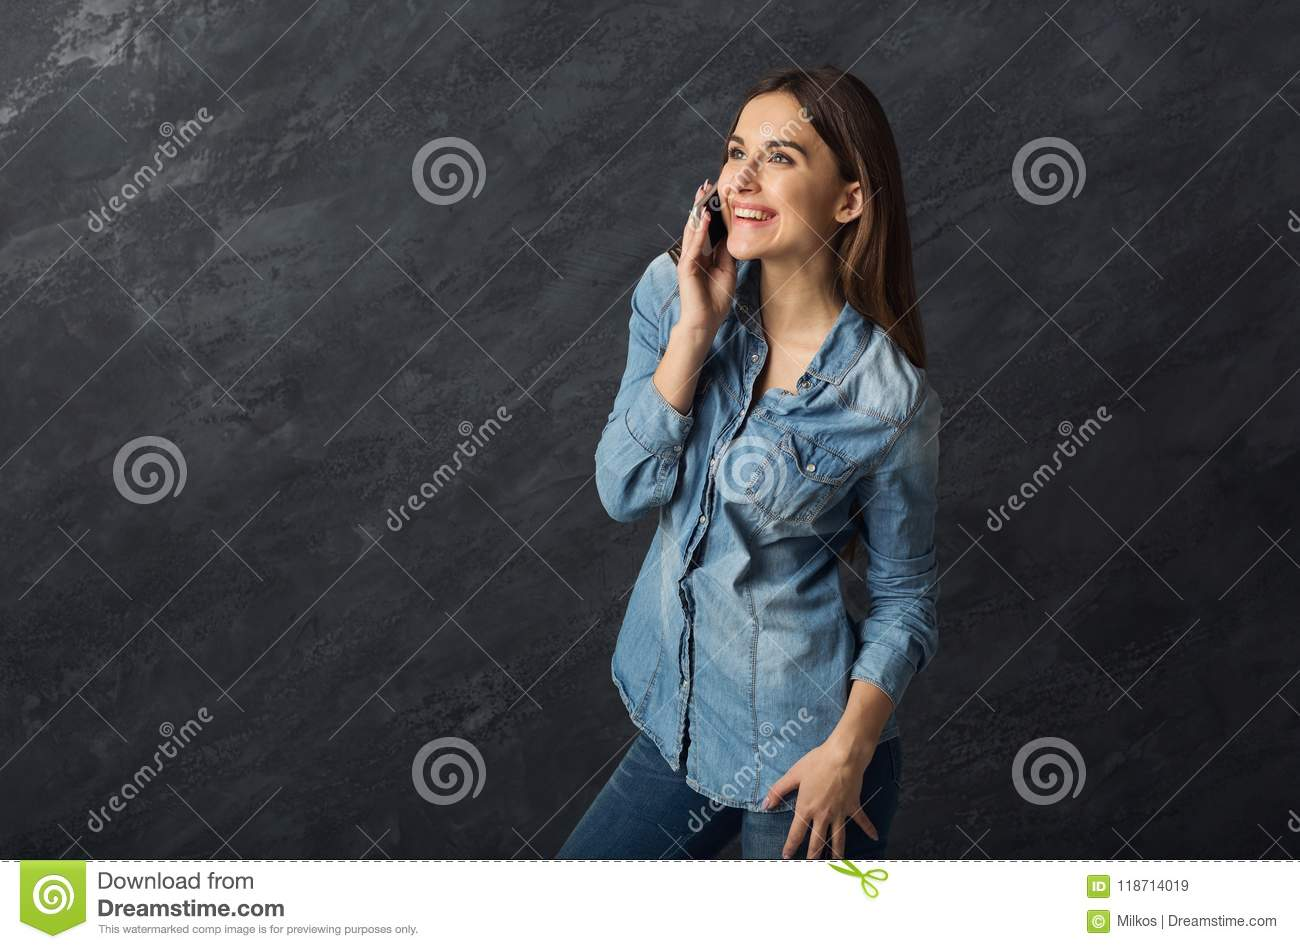phone: (692, 187, 729, 263)
talk: (675, 121, 817, 337)
